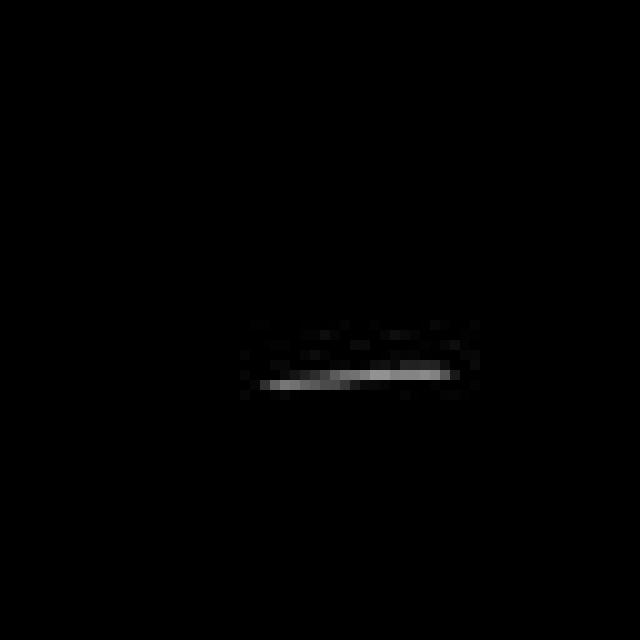1 -one-: (265, 361, 460, 408)
